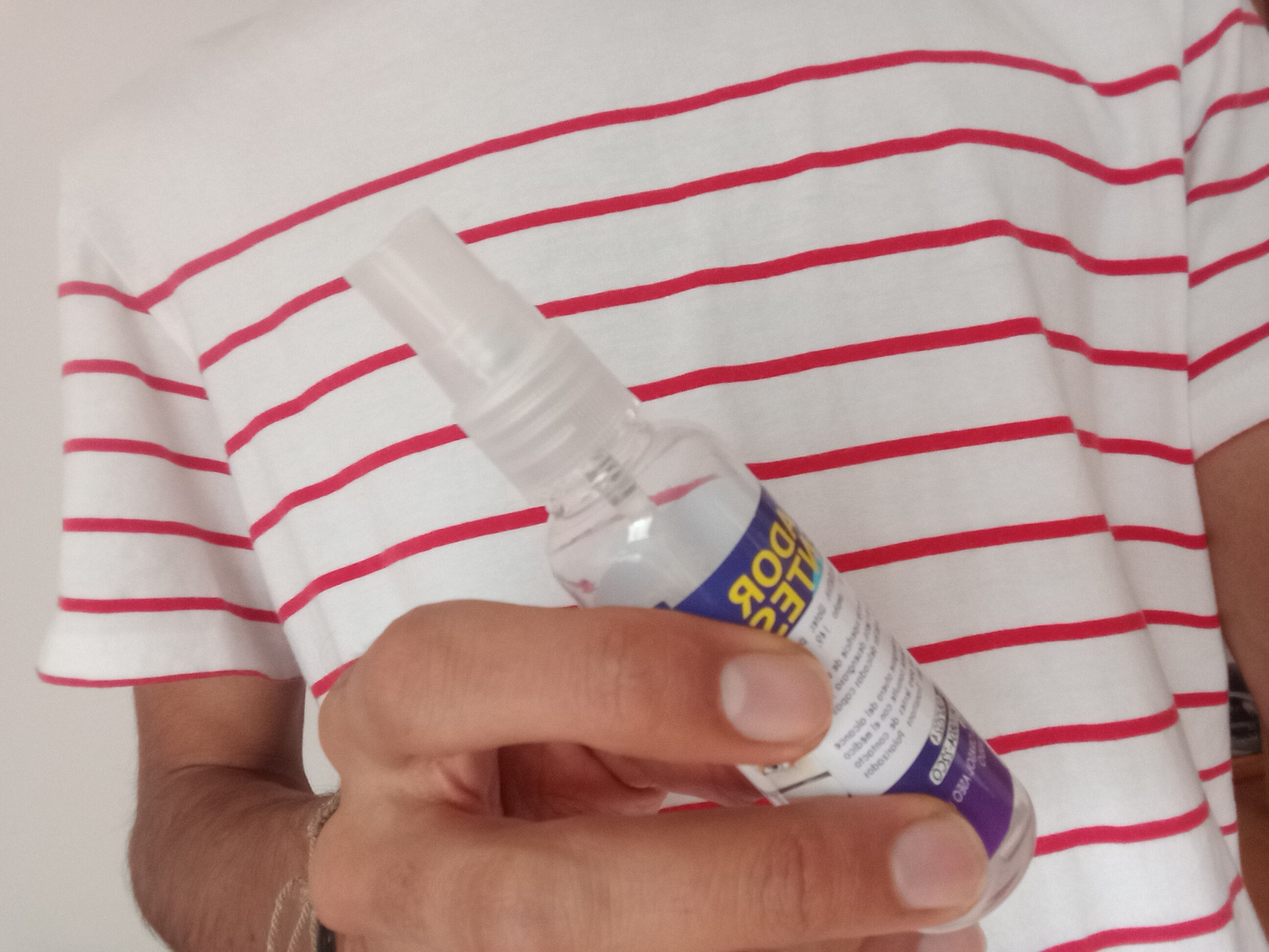Plastico: (342, 208, 1034, 936)
